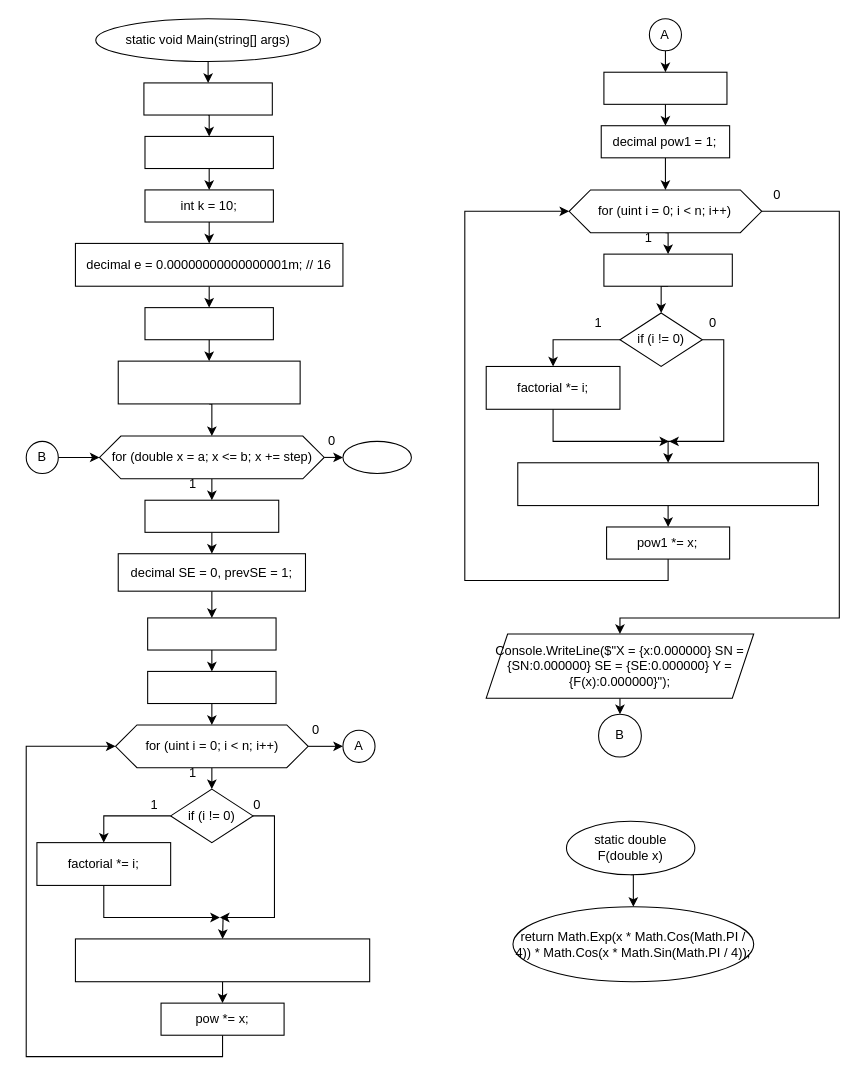
Some shapes in this 867 by 1084 pixel diagram are drawn without their labels. Each missing label, with the centre of its shape:
double a = 0 . 1 ;: point 207,98
double b = 1 ;: point 208,152
double pow = 1 ;: point 211,687
double SN = 0 ;: point 211,515
double step = ( b - a ) / k ;: point 208,382
factorial = 1 ;: point 665,87
int n = 25 ;: point 208,323
prevSE = SE ;: point 667,269
SE += ( pow1 * Math . Cos ( i * Math . PI / 4 )) / factorial ;: point 667,484
SN += ( pow * Math . Cos ( i * Math . PI / 4 )) / factorial ;: point 222,960
ulong factorial = 1 ;: point 211,633
